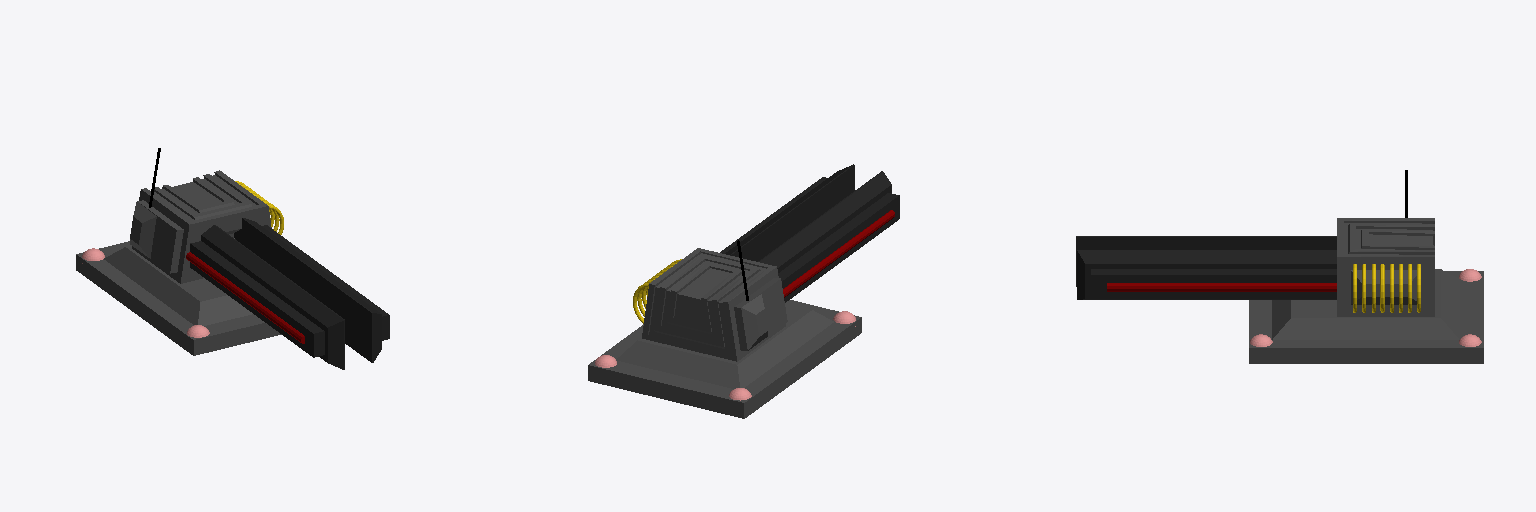
The model's file is LaserCannon.obj.
3 renders of one model, left to right at view 1: azimuth 30°, elevation 25°; view 2: azimuth 150°, elevation 25°; view 3: azimuth 270°, elevation 25°, orthographic.
Parts seen in each view (by area): view 1: Box001, Box004, Box002, Box003, Cylinder007; view 2: Box001, Box004, Box002, Box003, Cylinder007; view 3: Box001, Box003, Box004, Box002, Cylinder006.
Part boxes in pixels (x1,y1,x2,y2): Box001: (76, 241, 281, 355); Box004: (130, 170, 271, 283); Box002: (190, 225, 344, 369); Box003: (234, 218, 389, 362); Cylinder007: (186, 252, 304, 343); Box001: (588, 300, 861, 418); Box004: (642, 248, 787, 361); Box002: (758, 171, 899, 302); Box003: (720, 164, 854, 261); Cylinder007: (783, 210, 894, 297); Box001: (1249, 269, 1483, 363); Box003: (1077, 250, 1336, 299); Box004: (1337, 218, 1434, 316); Box002: (1076, 236, 1336, 286); Cylinder006: (1107, 283, 1336, 291).
Bounding box in the file's own units: 28.55 × 24.27 × 64.32.